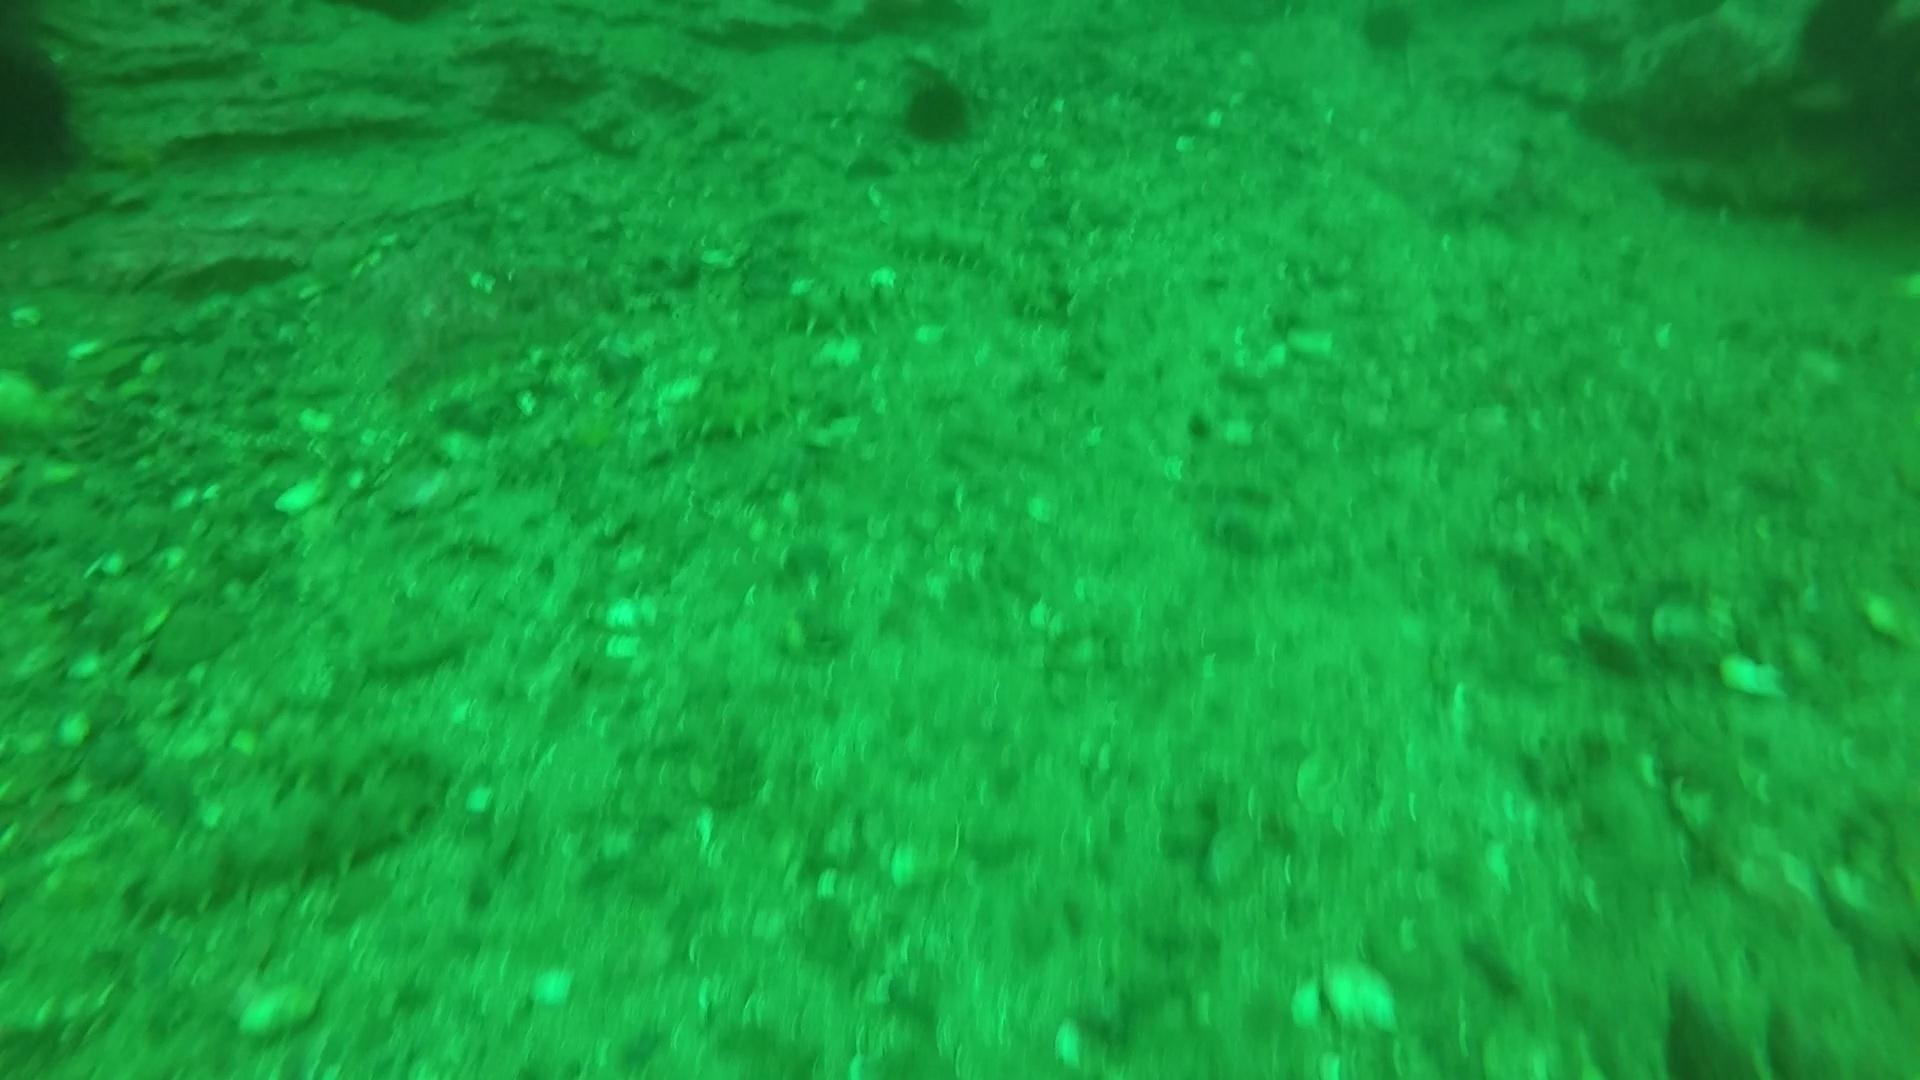echinus: (1, 34, 92, 193), (889, 65, 985, 153), (1346, 1, 1429, 63)
holothurian: (127, 716, 458, 918), (649, 373, 829, 446), (874, 211, 1025, 286), (767, 276, 914, 343), (1006, 241, 1059, 319)
